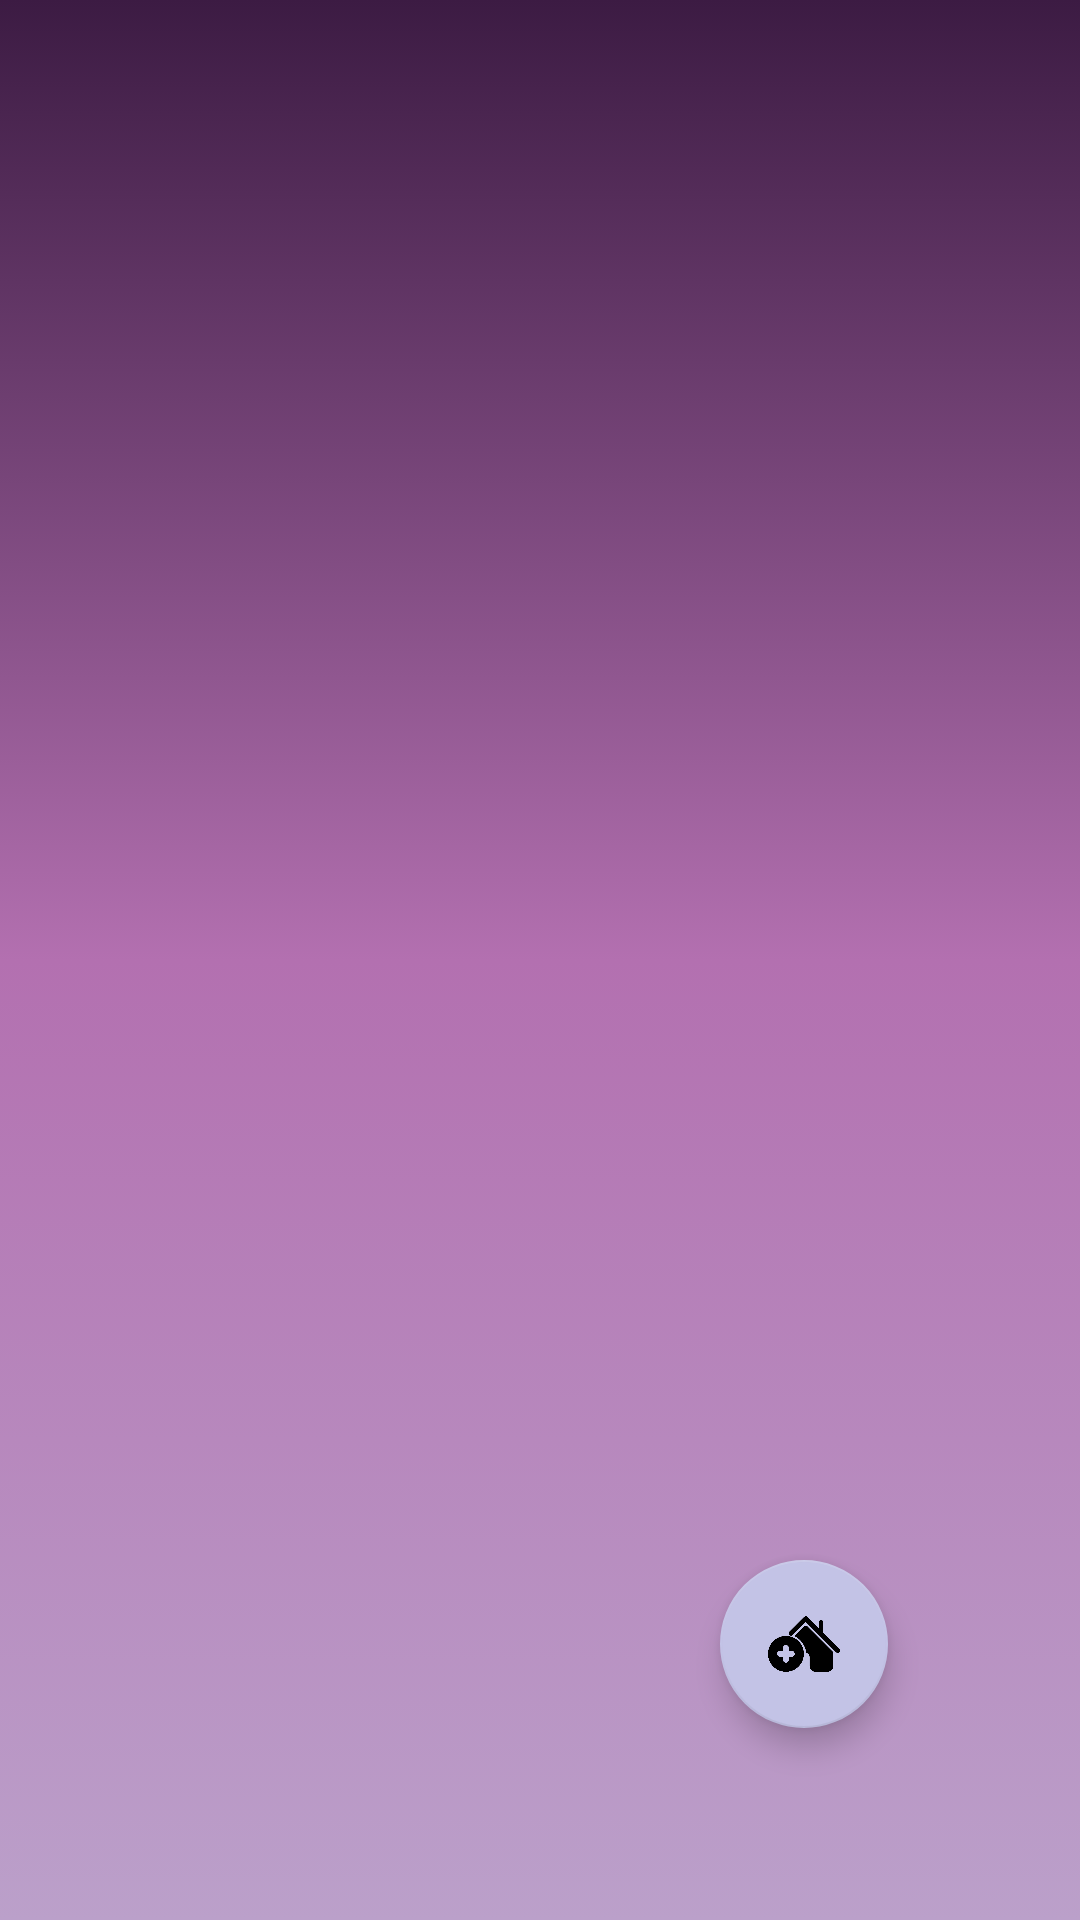

Where to tap for icons on this 1080px x 1920px app screen, as [x,y]:
Crear: [804,1644]
